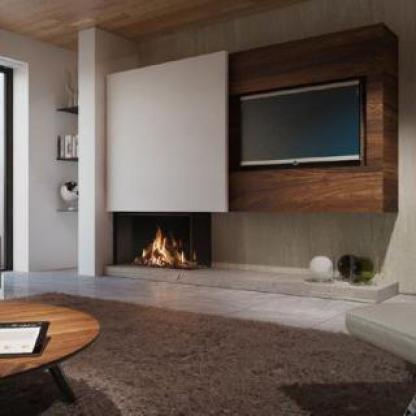Fire: (135, 229, 194, 268)
